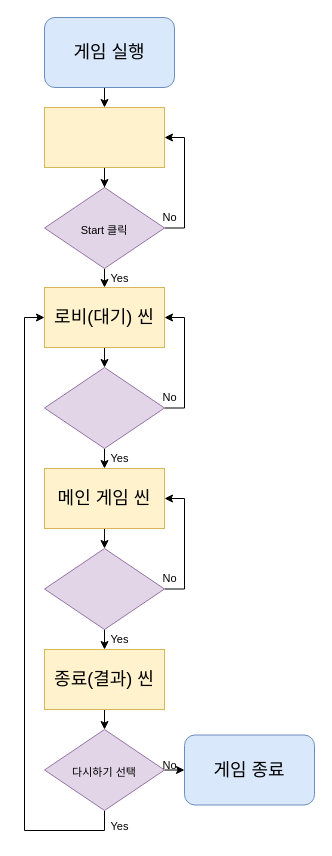
The diagram is 332 pixels wide and 856 high, and some of its shapes have lost their labels. The shapes that lost their labels are listed below. From the top down, each one's centre as x and y in pixels, then its label:
At (x=104, y=137): "게임 배너 씬".
At (x=104, y=407): "4명 모두 접속 후 시작 발판 위치".
At (x=104, y=589): "Last Man Standing".
